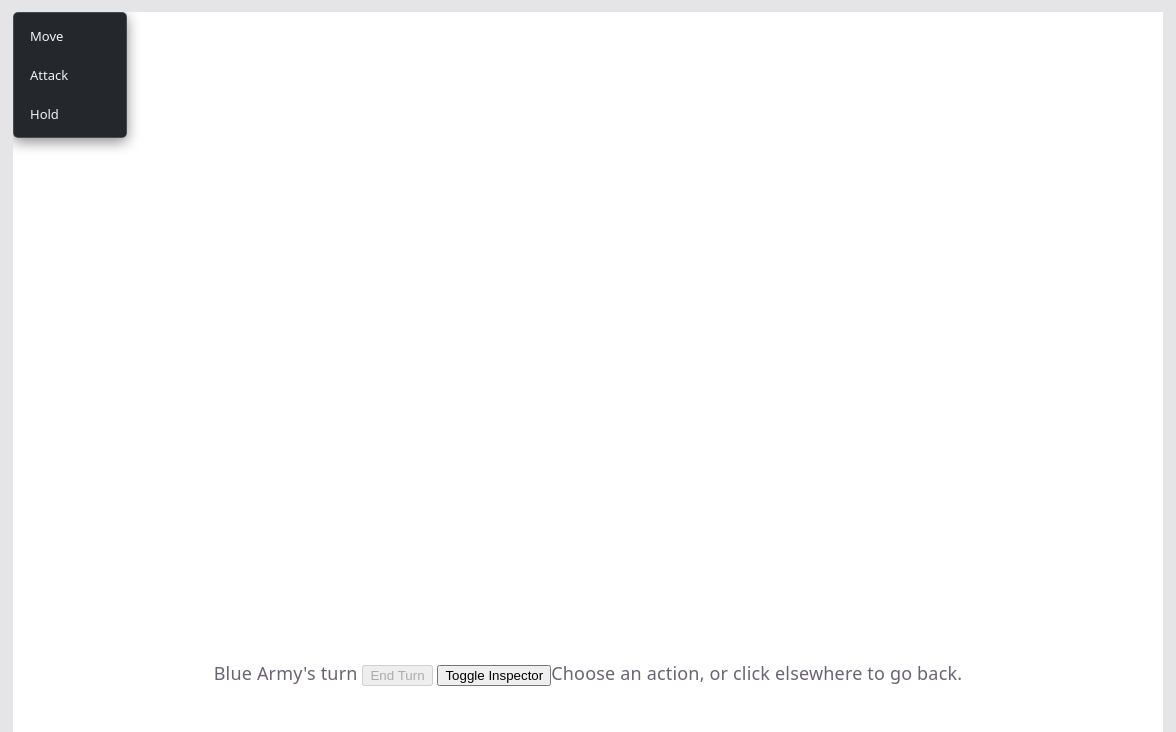
Test case: GameCanvas › offers Move until the unit has walked, and Move returns to the movement selection
The image size is (1176, 732).
Click the button "Move" at (70, 36), box x1=18 y1=17 x2=122 y2=55
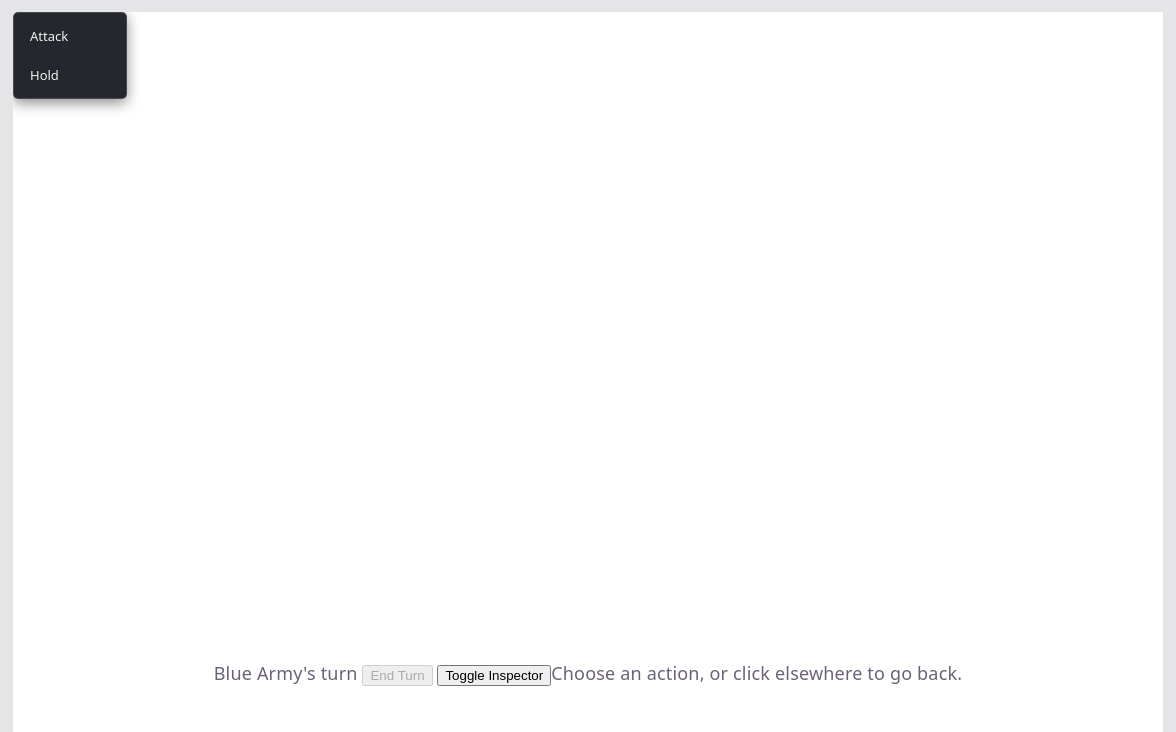
Now the button "Move" is gone
